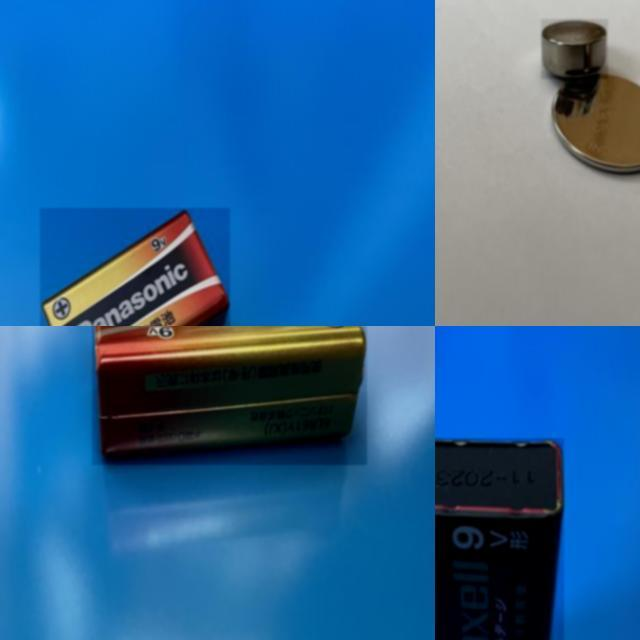9V: (92, 326, 367, 465), (435, 437, 564, 640), (40, 208, 230, 326)
